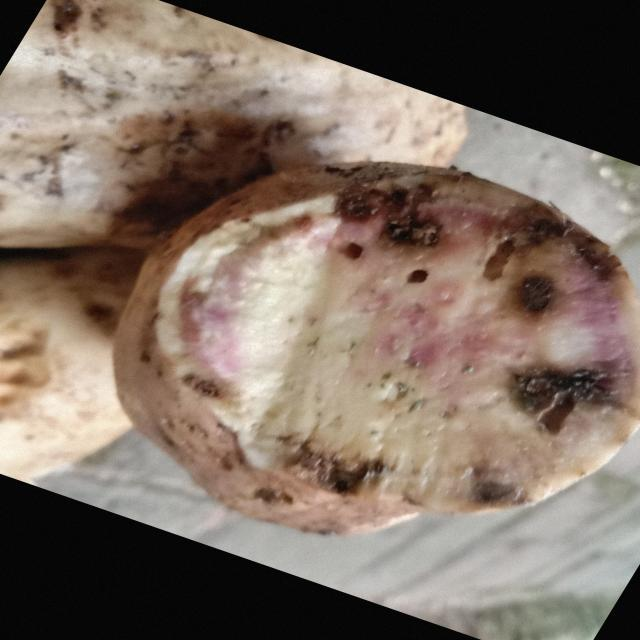Sick Sweet Potato_Tuber Rot: (115, 162, 638, 535)
